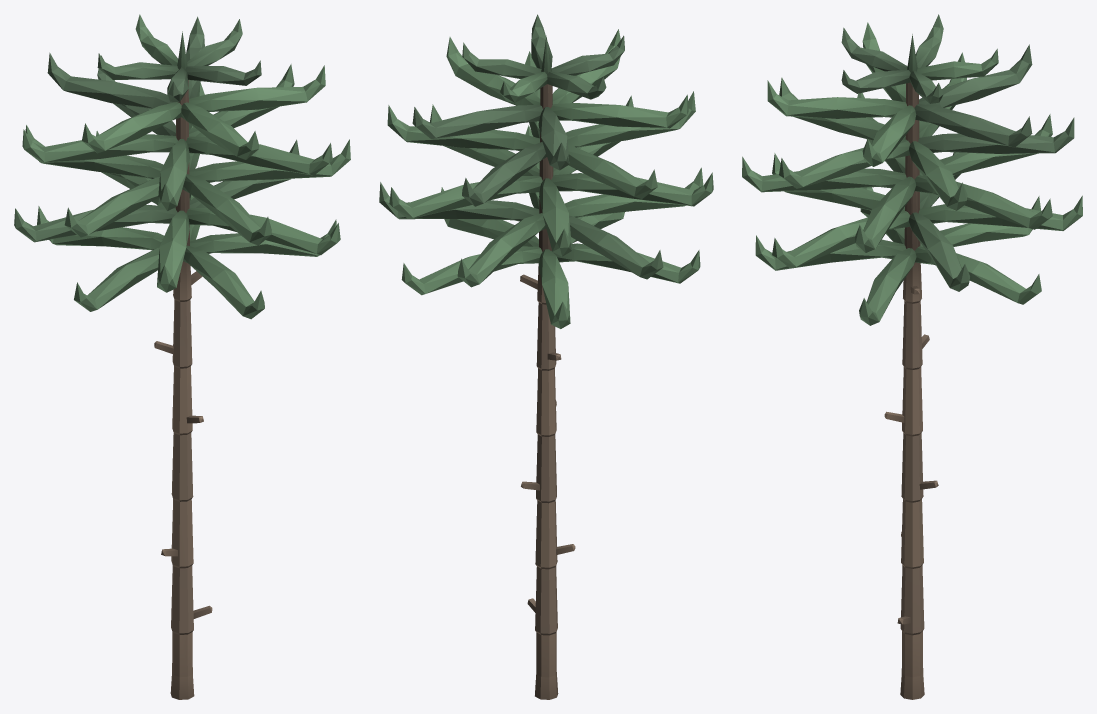
The model's file is araucaria.glb.
The picture shows the model from 3 angles, left to right: view 1: azimuth 30°, elevation 25°; view 2: azimuth 150°, elevation 25°; view 3: azimuth 270°, elevation 25°; orthographic projection.
Visible parts, largest first — view 1: araucaria; view 2: araucaria; view 3: araucaria.
Boxes of the visible parts, x1,y1,x2,y2 form: araucaria: [14, 14, 350, 699]; araucaria: [379, 14, 713, 699]; araucaria: [742, 14, 1082, 699].
Bounding box in the file's own units: 8.07 × 18 × 8.41.
